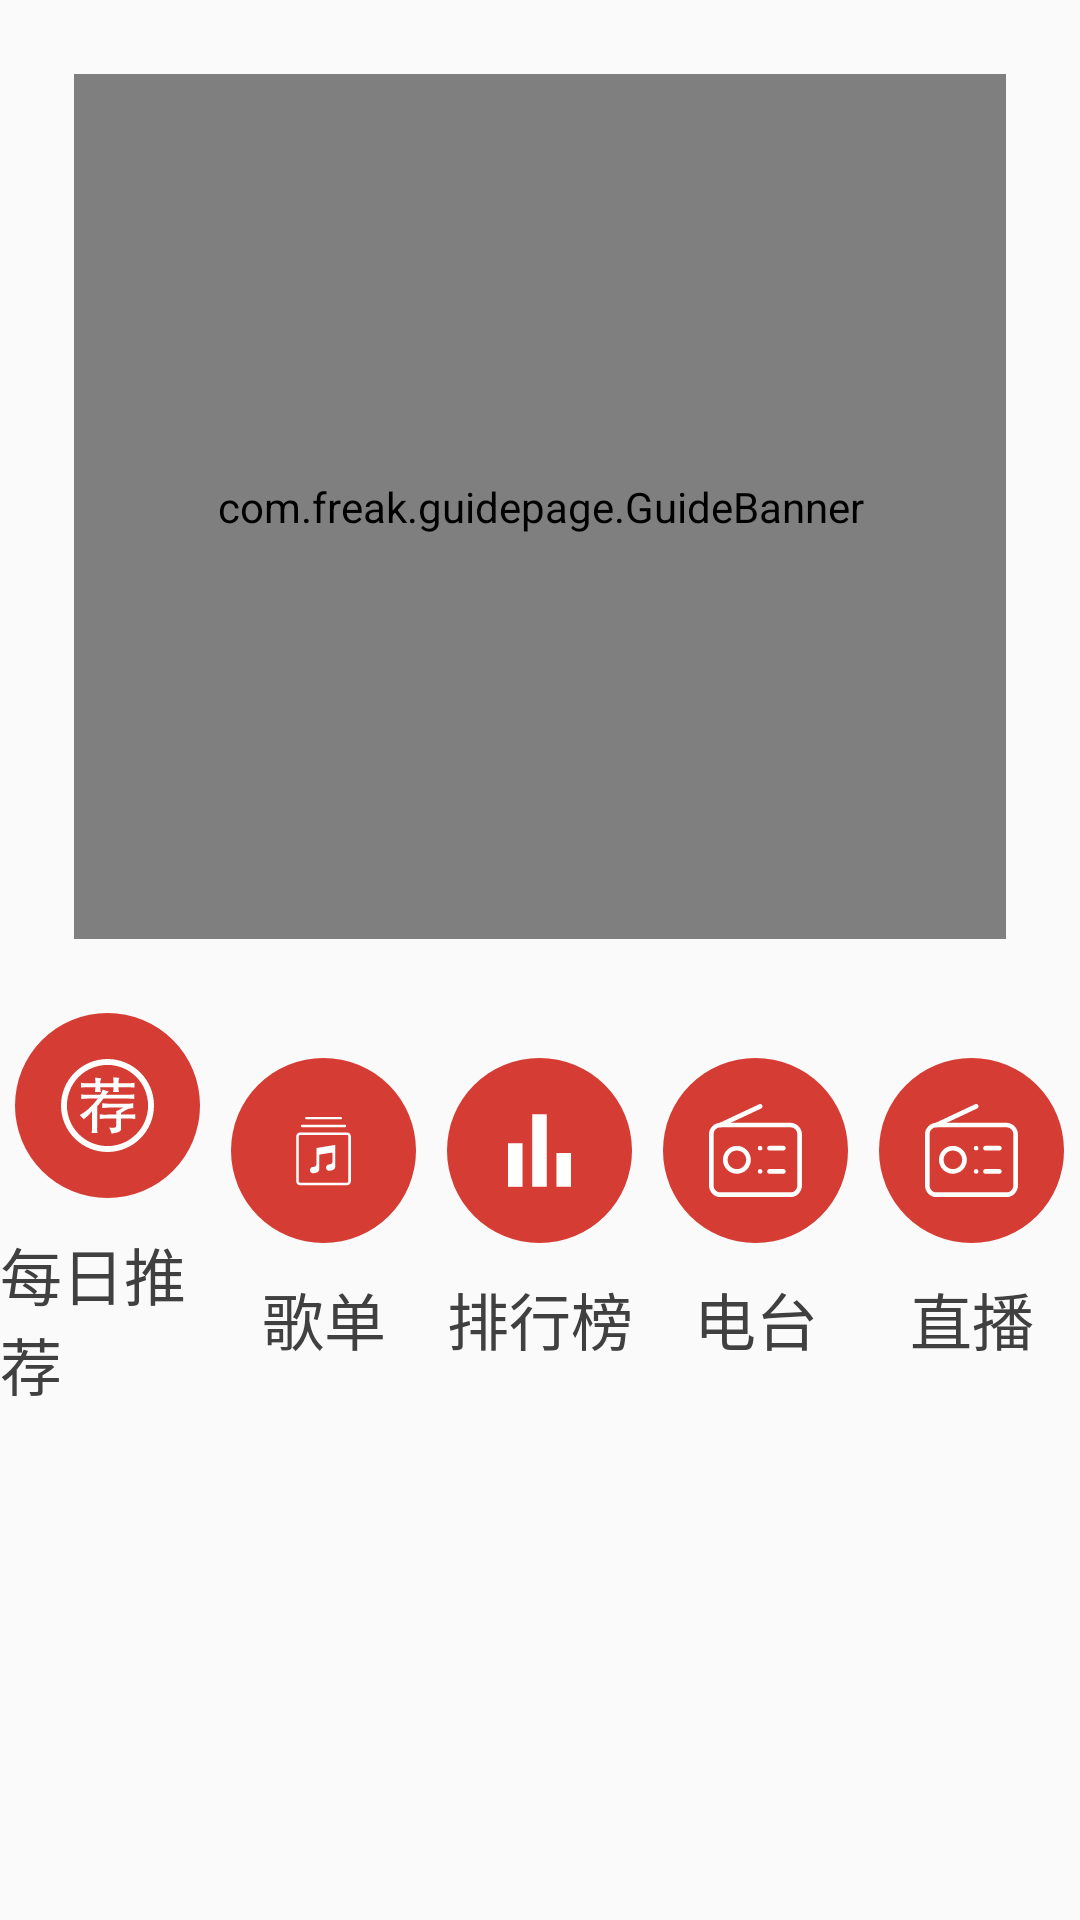

Screen size 1080 × 1920. Icon name, then its center in pixels as [x,y]:
recommend fm: [755,1150], [971,1150]
recommend gd: [323,1151]
recommend phb: [539,1150]
